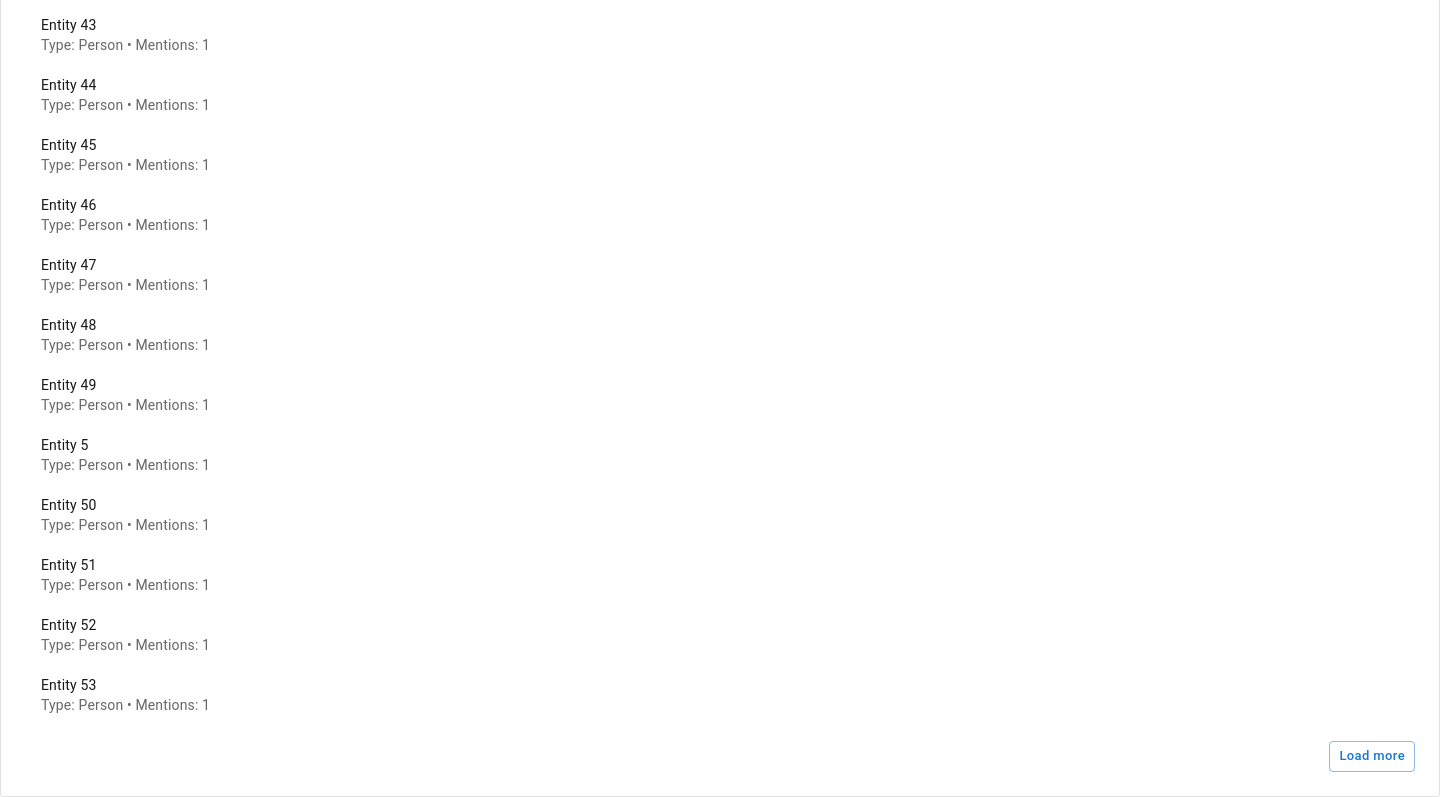
Test: EntityList › handles load more button
This screenshot has width=1440, height=797.
(page scrolled)
Click the button "Load more". click: [1372, 757]
box: x1=1329 y1=742 x2=1415 y2=772
(page scrolled)
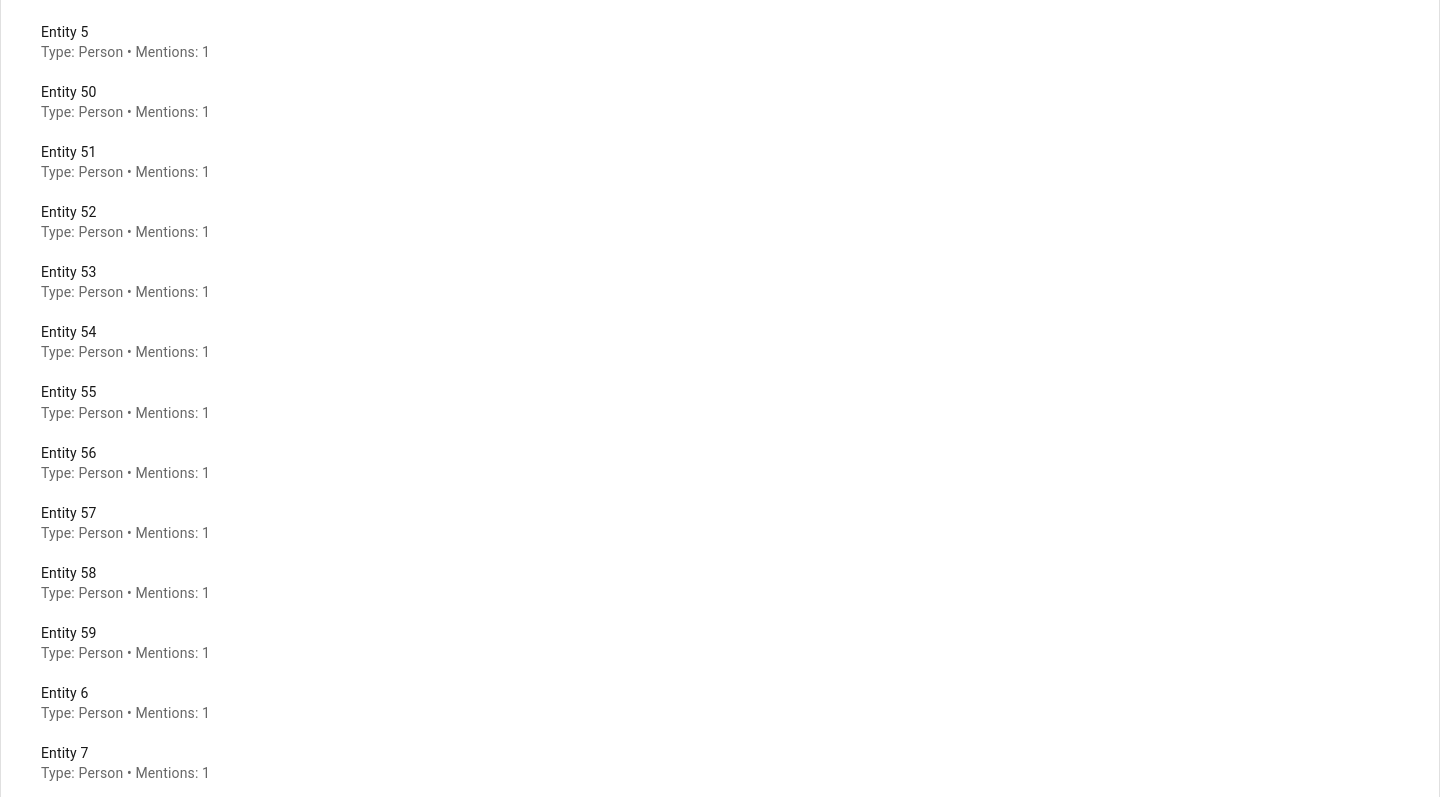
Check: the text "Entity 55" is shown, box x1=41 y1=384 x2=96 y2=400
